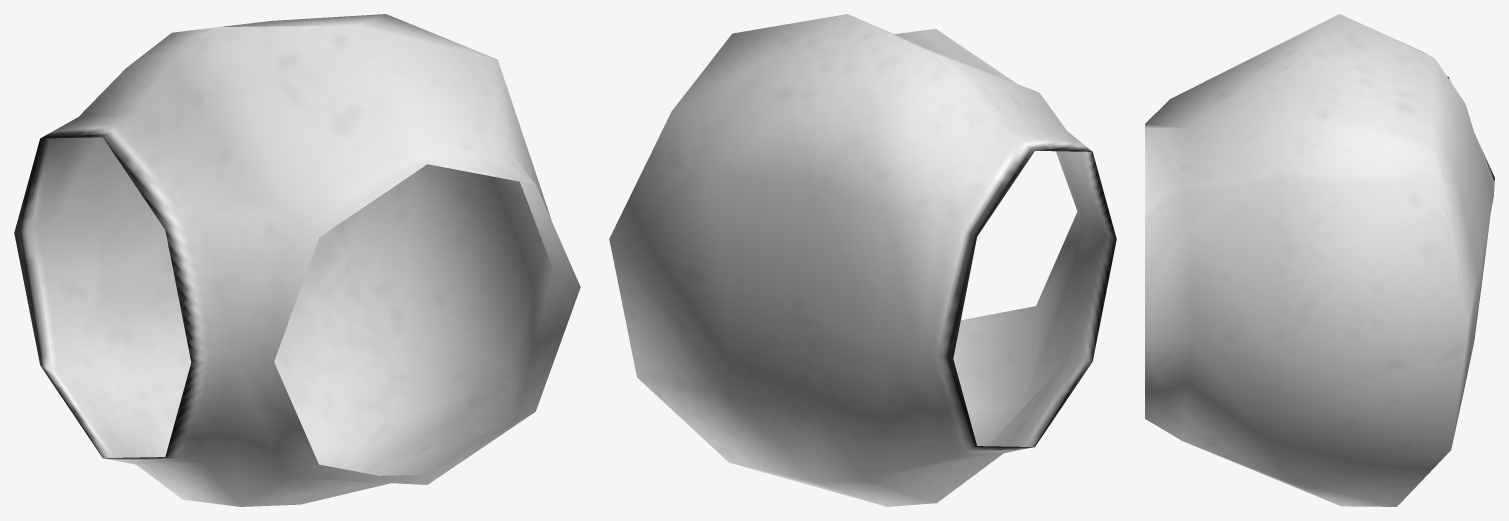
Rendered from big_arm_link_6.dae.
The picture shows the model from 3 angles, left to right: view 1: azimuth 30°, elevation 25°; view 2: azimuth 150°, elevation 25°; view 3: azimuth 270°, elevation 25°; orthographic projection. The views are drawn at different scales.
Visible parts, largest first — view 1: Big Arm_6; view 2: Big Arm_6; view 3: Big Arm_6.
Part boxes in pixels (bbox=[...]): Big Arm_6: bbox=[14, 14, 580, 506]; Big Arm_6: bbox=[609, 14, 1116, 506]; Big Arm_6: bbox=[1145, 14, 1494, 506].
Bounding box in the file's own units: 0.3371 × 0.2757 × 0.3814.
Materials: 1 (1 with a texture image).
